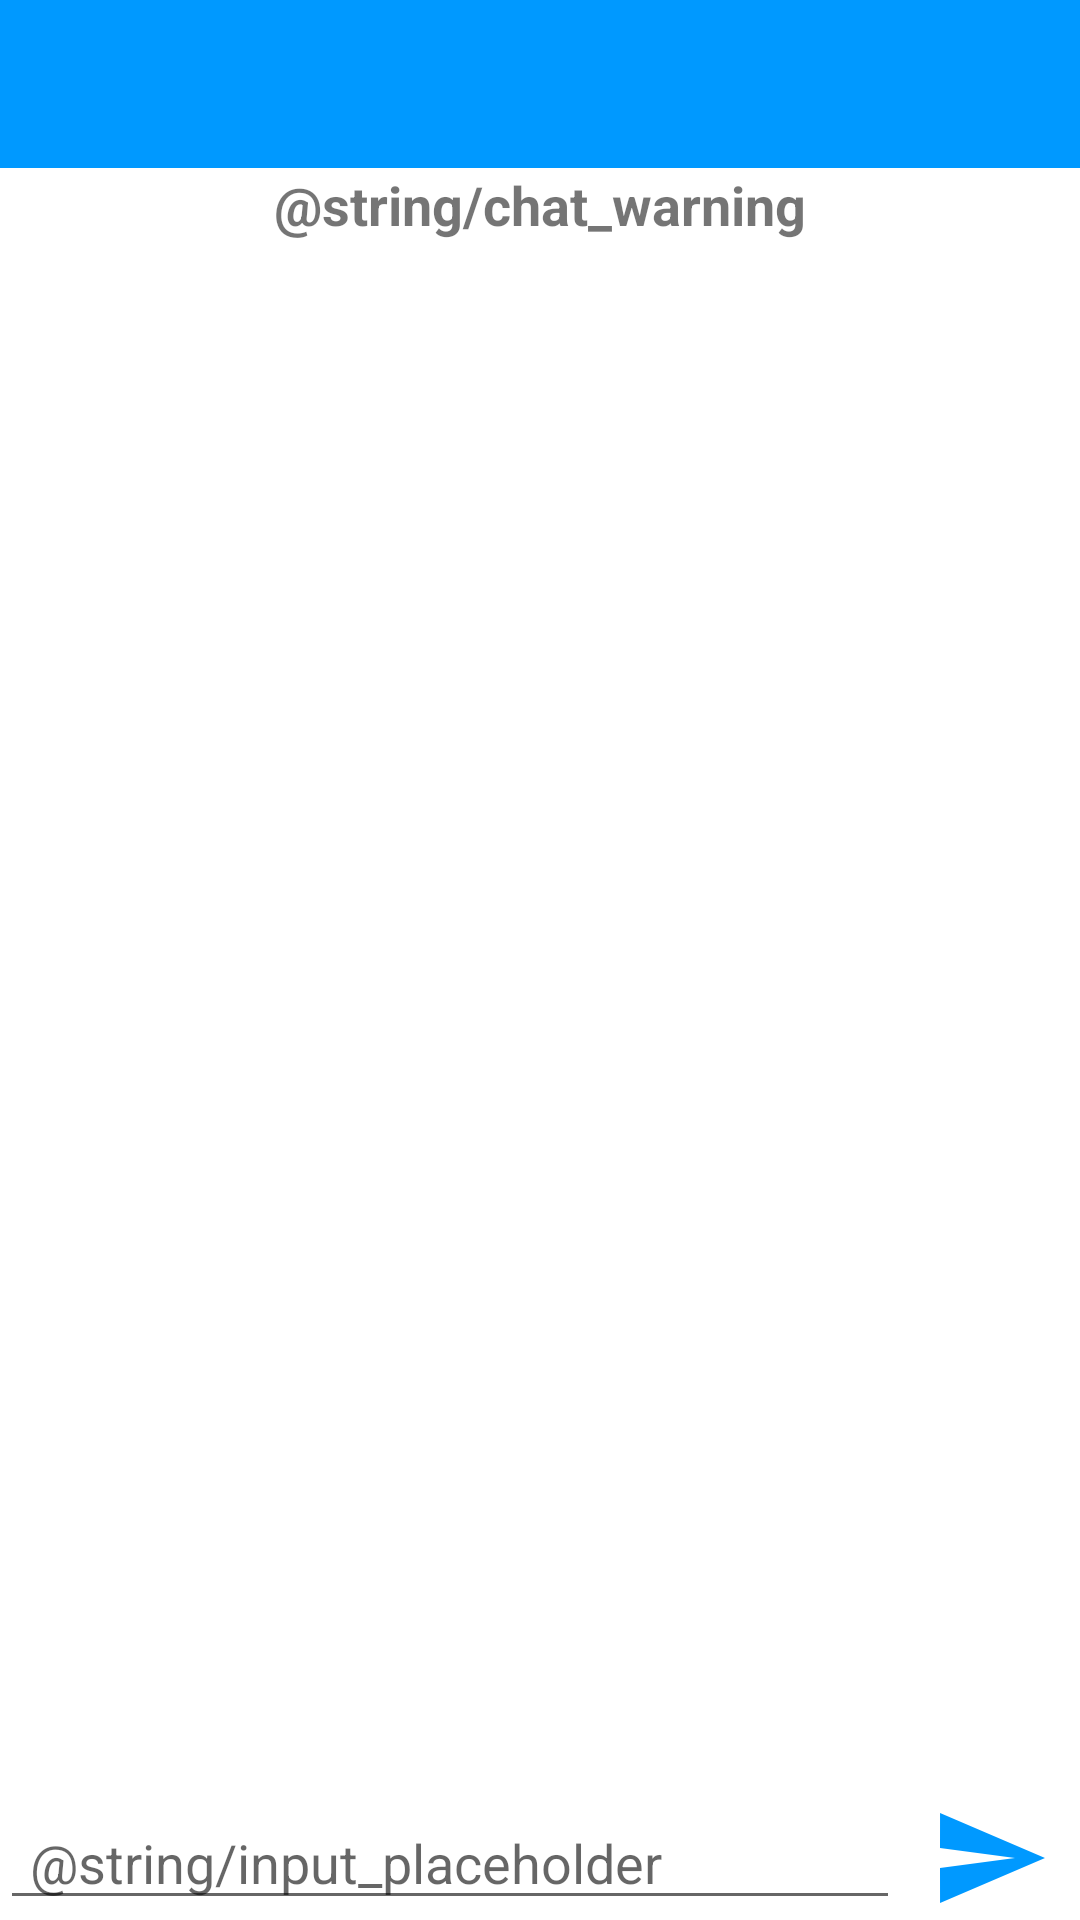

Named icons in this screenshot (1080 × 1920) and their bounding boxes, detection(x1, y1, x2, y2):
send: detection(940, 1813, 1045, 1903)
